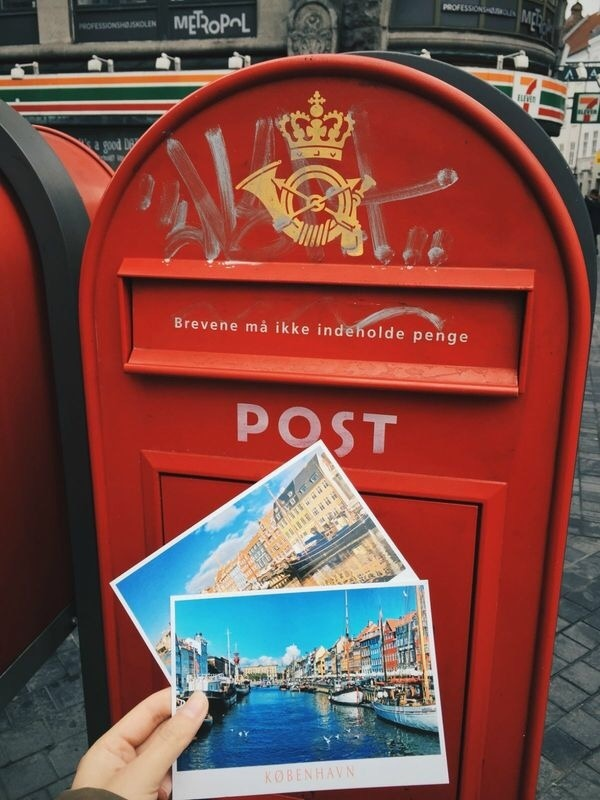text: (241, 402, 256, 460), (257, 402, 272, 460), (273, 402, 288, 460), (289, 402, 304, 460), (305, 402, 320, 460), (321, 402, 336, 460), (337, 402, 352, 460), (353, 402, 368, 460), (369, 402, 384, 460), (385, 402, 400, 460), (449, 3, 464, 45), (465, 3, 480, 45), (481, 3, 496, 45), (497, 3, 512, 45), (513, 3, 528, 45), (529, 3, 544, 45), (545, 3, 557, 45), (177, 10, 192, 37), (193, 10, 208, 37), (209, 10, 224, 37), (225, 10, 240, 37), (321, 321, 336, 344), (337, 321, 352, 344), (353, 321, 368, 344), (369, 321, 384, 344), (385, 321, 400, 344), (273, 764, 288, 785), (289, 764, 304, 785), (305, 764, 320, 785), (321, 764, 336, 785), (337, 764, 352, 785), (417, 329, 432, 349), (433, 329, 448, 349), (449, 329, 464, 349), (241, 10, 252, 37), (289, 320, 304, 338), (177, 318, 192, 333), (193, 318, 208, 333), (209, 318, 224, 333), (276, 320, 288, 338), (81, 20, 96, 34), (97, 20, 112, 34), (113, 20, 128, 34), (129, 20, 144, 34), (225, 318, 238, 333), (237, 402, 240, 460), (145, 20, 157, 34), (444, 3, 448, 45), (257, 322, 268, 336), (246, 322, 256, 336), (401, 321, 407, 344), (267, 764, 272, 785), (465, 329, 469, 349), (305, 320, 309, 338), (401, 402, 402, 460), (353, 764, 355, 785), (414, 329, 416, 349), (175, 10, 176, 37), (319, 321, 320, 344), (175, 318, 176, 333), (79, 20, 80, 34)
